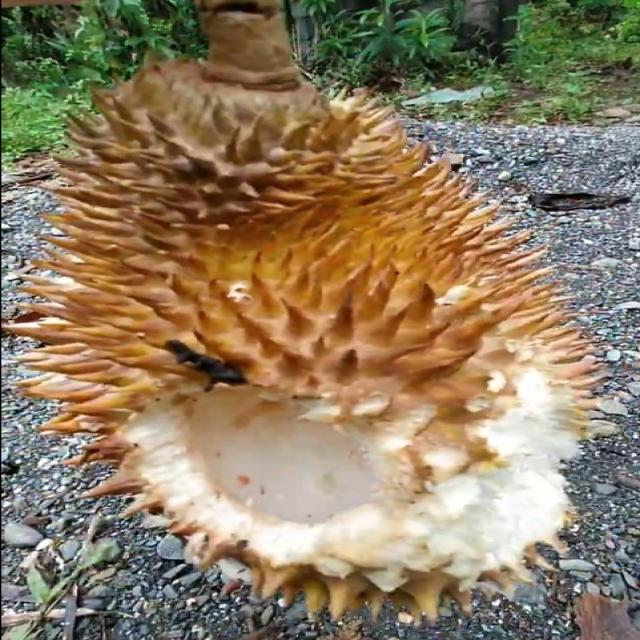defective: (13, 48, 620, 629)
